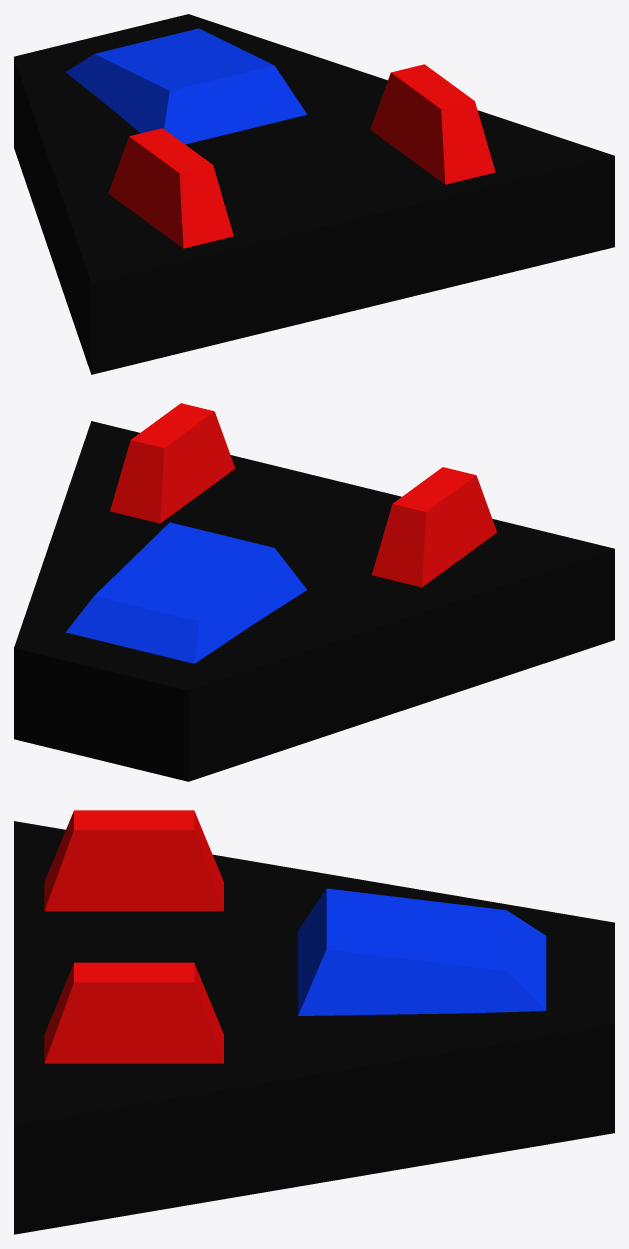
File: Spaceship.obj
The picture shows the model from 3 angles, top to bottom: view 1: azimuth 30°, elevation 25°; view 2: azimuth 150°, elevation 25°; view 3: azimuth 270°, elevation 25°; orthographic projection. The views are drawn at different scales.
Visible parts, largest first — view 1: Cube.001, Cube.004, Cube.002, Cube.003; view 2: Cube.001, Cube.004, Cube.003, Cube.002; view 3: Cube.001, Cube.004, Cube.002, Cube.003.
Part boxes in pixels (box(x1,y1,x2,y2)): Cube.001: box(14, 14, 614, 374); Cube.004: box(66, 28, 306, 144); Cube.002: box(108, 128, 233, 248); Cube.003: box(370, 64, 495, 184); Cube.001: box(14, 421, 614, 781); Cube.004: box(66, 522, 307, 663); Cube.003: box(110, 403, 235, 523); Cube.002: box(372, 467, 496, 587); Cube.001: box(14, 821, 614, 1234); Cube.004: box(298, 888, 546, 1015); Cube.002: box(44, 810, 223, 911); Cube.003: box(44, 962, 223, 1063).
Bounding box in the file's own units: 6 × 1.7 × 5.
Materials: 1 (1 with a texture image).
